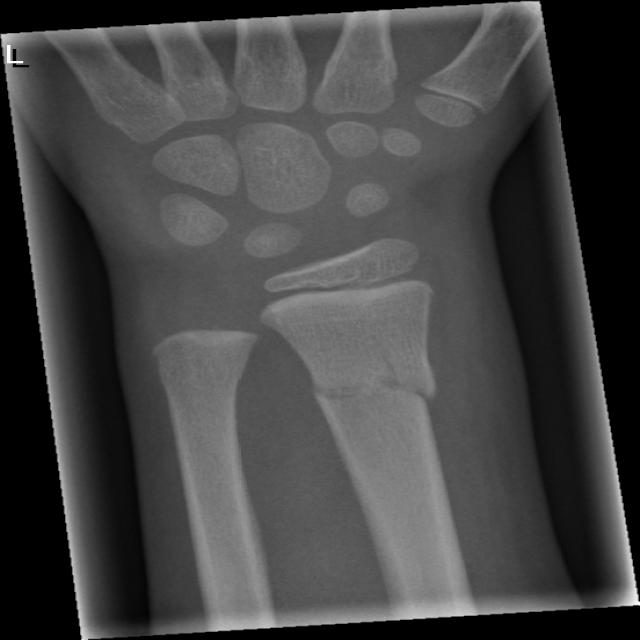radius fracture: (294, 337, 469, 456)
